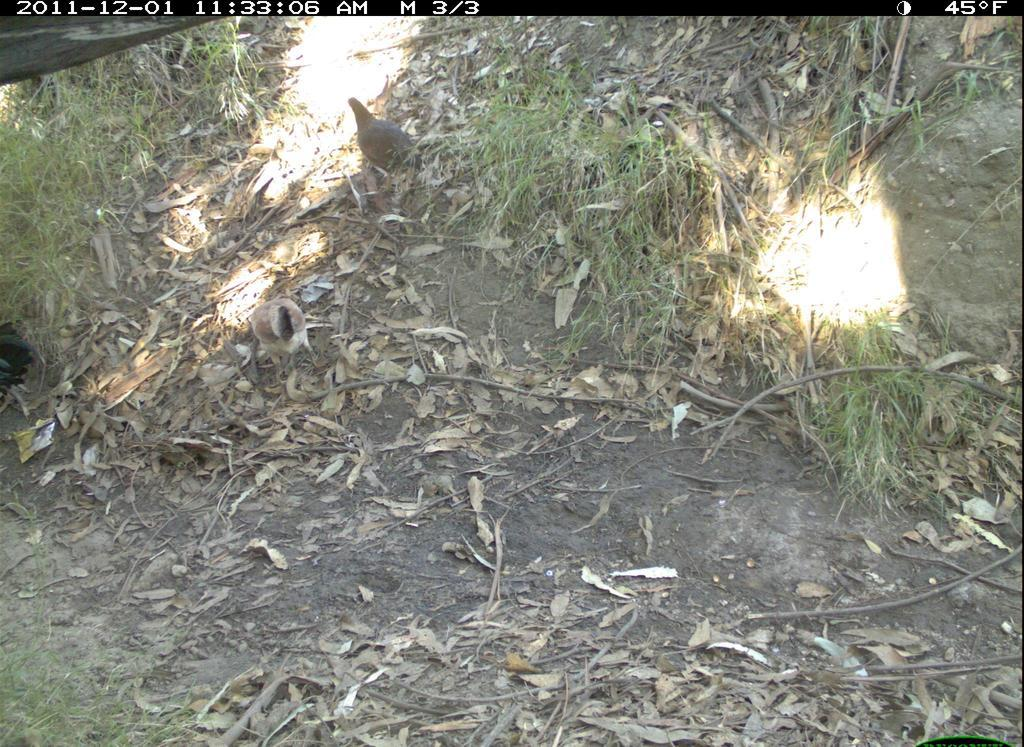bird: (340, 90, 424, 197), (245, 294, 324, 391), (1, 315, 49, 425)
